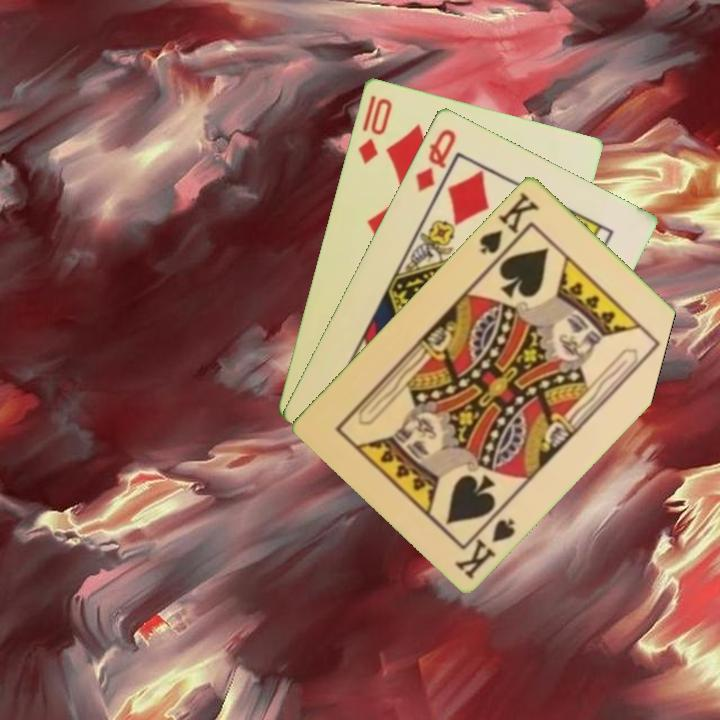10d: (354, 94, 395, 166)
Ks: (475, 187, 542, 265), (451, 504, 518, 582)
Qd: (411, 124, 459, 195)
